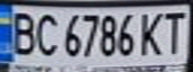6: (60, 10, 84, 57), (115, 10, 139, 57)
7: (78, 10, 100, 58)
8: (96, 11, 121, 58)
B: (6, 8, 39, 56)
C: (30, 10, 60, 57)
K: (136, 9, 166, 56)
T: (157, 8, 190, 56)
